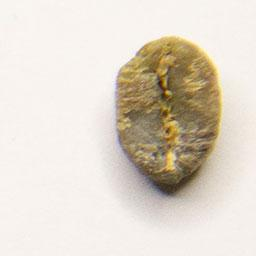defect: (110, 32, 226, 189)
